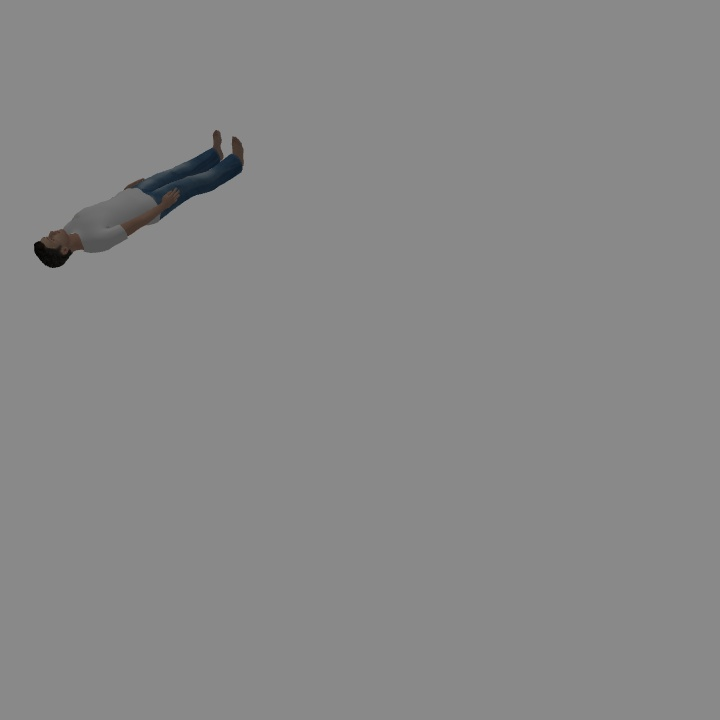victim: (37, 132, 244, 265)
